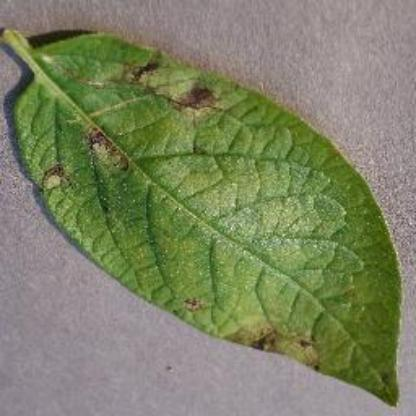Late-Blight: (3, 15, 411, 413)
